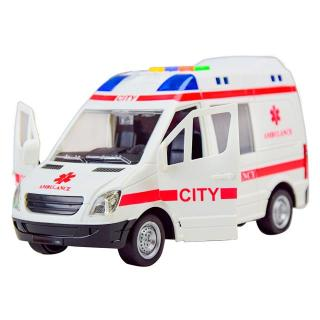Ambulance: (2, 21, 310, 281)
